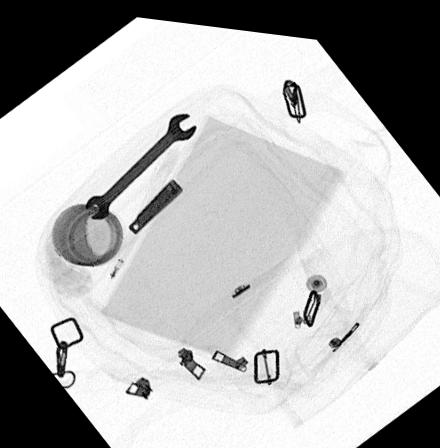Wrench: (82, 107, 199, 221)
